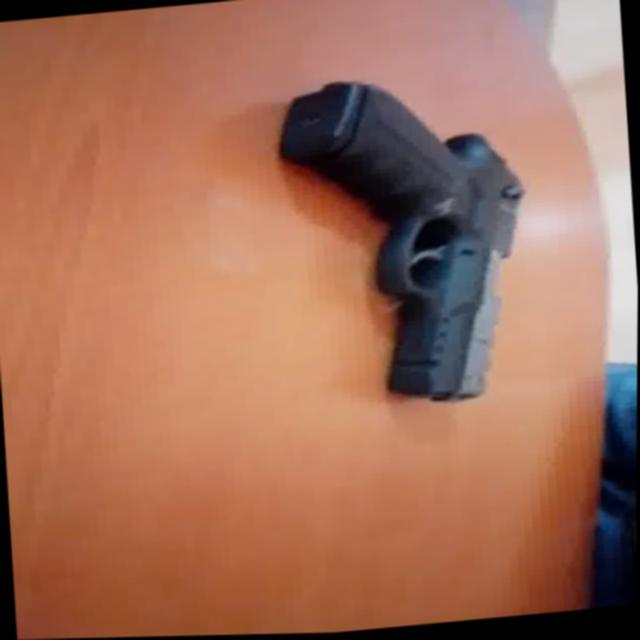weapon: (270, 65, 540, 418)
